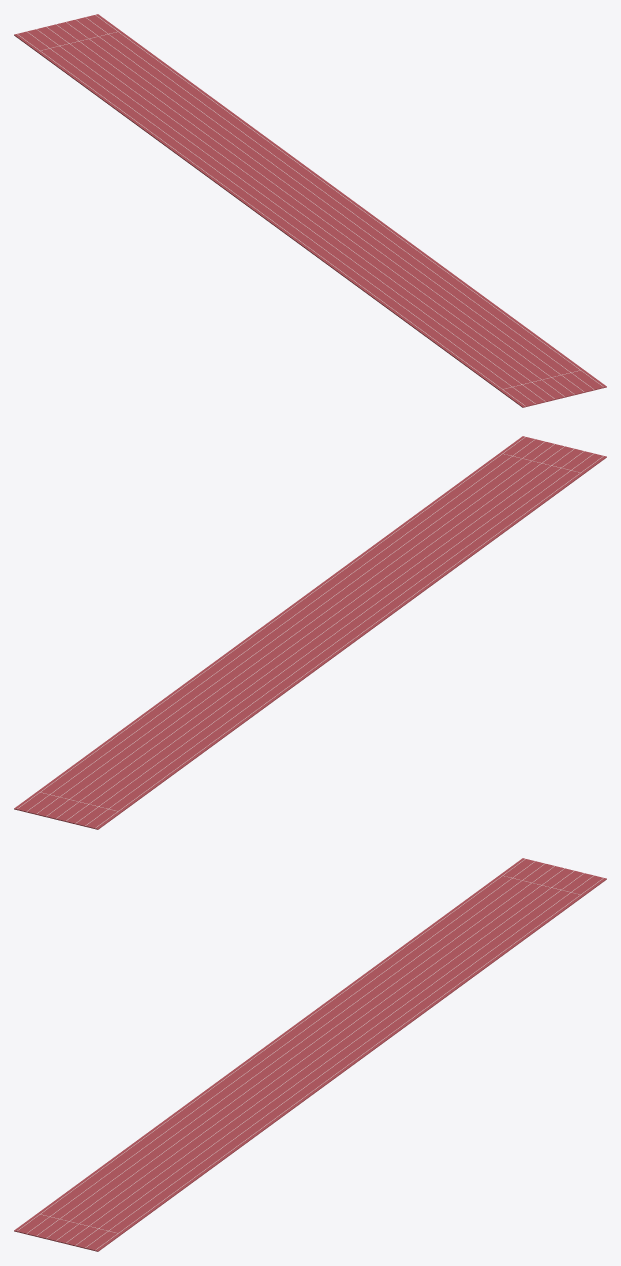
3 renders of one model, top to bottom at view 1: azimuth 30°, elevation 25°; view 2: azimuth 150°, elevation 25°; view 3: azimuth 330°, elevation 25°, orthographic.
Visible parts, largest first — view 1: MetaAthletics_100m_TrackBase, MetaAthletics_TrackLine_1, MetaAthletics_TrackLine_3, MetaAthletics_TrackLine_5, MetaAthletics_TrackLine_6, MetaAthletics_TrackLine_8, MetaAthletics_TrackLine_9, MetaAthletics_TrackLine_2, MetaAthletics_TrackLine_4, MetaAthletics_TrackLine_7; view 2: MetaAthletics_100m_TrackBase, MetaAthletics_TrackLine_1, MetaAthletics_TrackLine_3, MetaAthletics_TrackLine_5, MetaAthletics_TrackLine_6, MetaAthletics_TrackLine_8, MetaAthletics_TrackLine_9, MetaAthletics_TrackLine_2, MetaAthletics_TrackLine_4, MetaAthletics_TrackLine_7; view 3: MetaAthletics_100m_TrackBase, MetaAthletics_TrackLine_9, MetaAthletics_TrackLine_1, MetaAthletics_TrackLine_2, MetaAthletics_TrackLine_4, MetaAthletics_TrackLine_5, MetaAthletics_TrackLine_7, MetaAthletics_TrackLine_6, MetaAthletics_TrackLine_8, MetaAthletics_TrackLine_3.
Part boxes in pixels (x1,y1,x2,y2): MetaAthletics_100m_TrackBase: [14, 14, 606, 407]; MetaAthletics_TrackLine_1: [17, 34, 525, 406]; MetaAthletics_TrackLine_3: [36, 29, 545, 401]; MetaAthletics_TrackLine_5: [56, 24, 564, 396]; MetaAthletics_TrackLine_6: [66, 22, 574, 394]; MetaAthletics_TrackLine_8: [85, 17, 593, 389]; MetaAthletics_TrackLine_9: [95, 14, 603, 386]; MetaAthletics_TrackLine_2: [27, 32, 535, 403]; MetaAthletics_TrackLine_4: [47, 27, 554, 398]; MetaAthletics_TrackLine_7: [76, 20, 583, 391]; MetaAthletics_100m_TrackBase: [14, 436, 606, 829]; MetaAthletics_TrackLine_1: [95, 456, 603, 828]; MetaAthletics_TrackLine_3: [75, 451, 584, 823]; MetaAthletics_TrackLine_5: [56, 446, 564, 818]; MetaAthletics_TrackLine_6: [46, 444, 554, 816]; MetaAthletics_TrackLine_8: [27, 439, 535, 811]; MetaAthletics_TrackLine_9: [17, 436, 525, 808]; MetaAthletics_TrackLine_2: [85, 454, 593, 825]; MetaAthletics_TrackLine_4: [66, 449, 573, 820]; MetaAthletics_TrackLine_7: [37, 442, 544, 813]; MetaAthletics_100m_TrackBase: [14, 858, 606, 1251]; MetaAthletics_TrackLine_9: [95, 878, 603, 1250]; MetaAthletics_TrackLine_1: [17, 858, 525, 1230]; MetaAthletics_TrackLine_2: [27, 861, 535, 1233]; MetaAthletics_TrackLine_4: [46, 866, 554, 1238]; MetaAthletics_TrackLine_5: [56, 868, 564, 1240]; MetaAthletics_TrackLine_7: [75, 873, 584, 1245]; MetaAthletics_TrackLine_6: [66, 871, 573, 1242]; MetaAthletics_TrackLine_8: [85, 876, 593, 1247]; MetaAthletics_TrackLine_3: [37, 864, 544, 1235].
Size of the model in its own units: 10.5 by 0.103 by 110.
